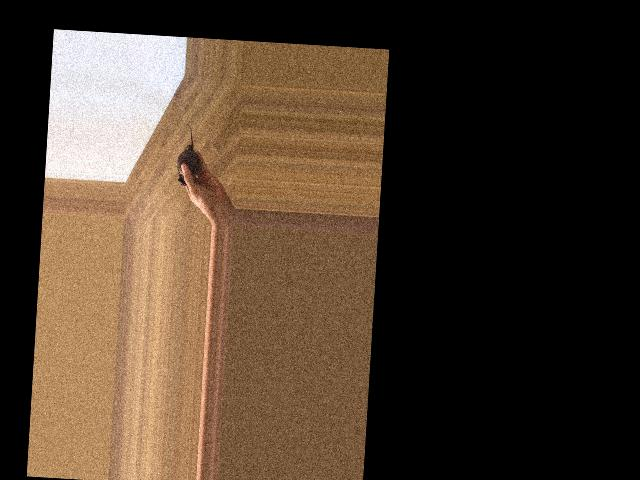beet: (175, 122, 202, 186)
